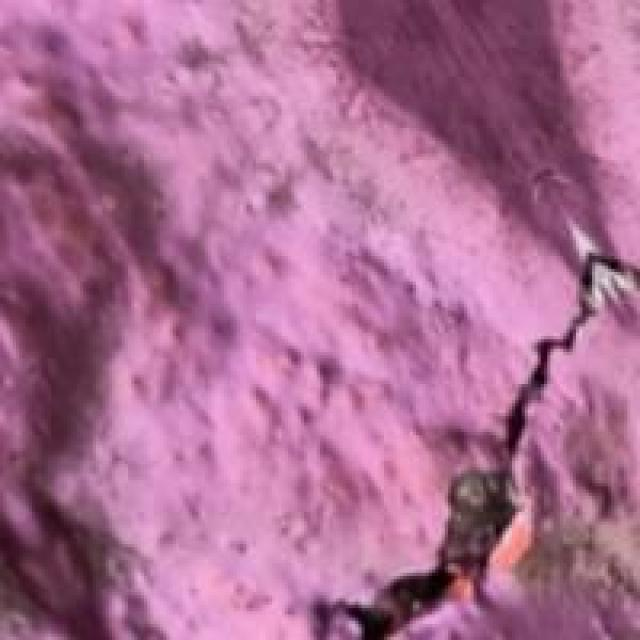crack: (205, 147, 637, 637)
